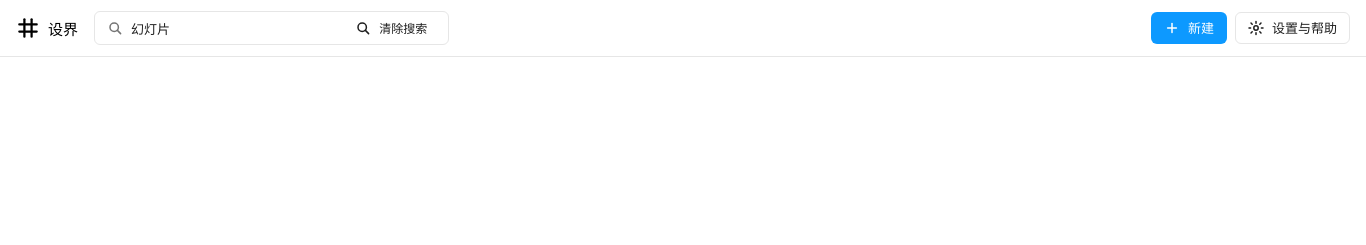
HomeTopbar · 全局搜索（B9） › 检索索引降级（E1 补口 · 复核 Spec c）→ 市场分组给「暂按字面匹配」提示，结果照常展示
Click the search field named "搜索文件与技能资产" at coordinates (235, 28), box [131, 12, 338, 44]
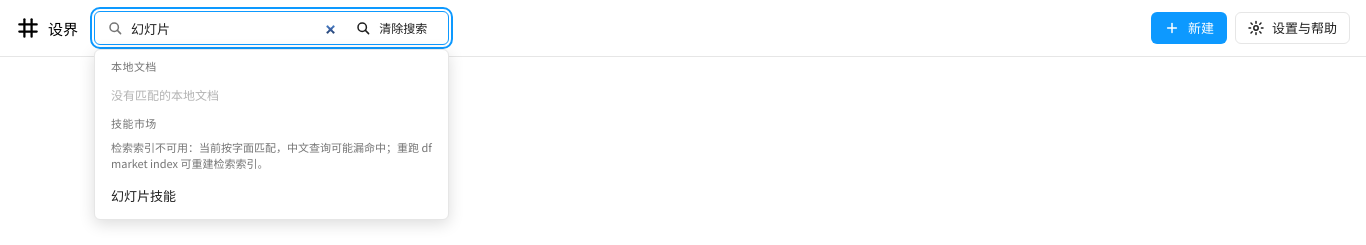
Expected: the text "检索索引不可用：当前按字面匹配，中文查询可能漏命中；重跑 df market index 可重建检索索引。" is shown, [103, 135, 440, 175]
Expected: the menu item "幻灯片技能" is shown, [103, 179, 440, 211]
